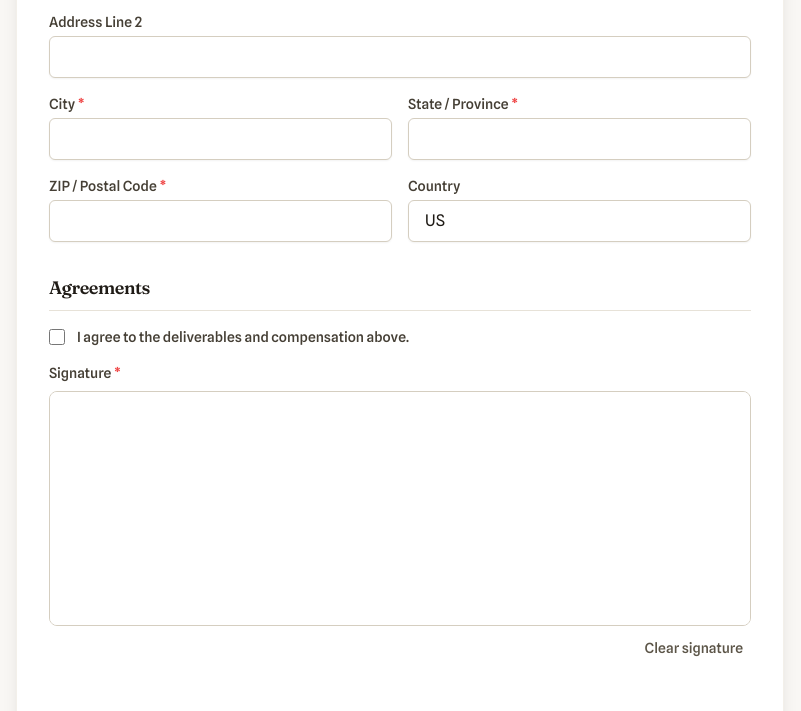
Test: AcceptOffer shipping address › blocks accepting with an inline message under each empty required field
(page scrolled)
Click the checkbox labelled "I agree to the deliverables and compensation above." at {"x": 57, "y": 337}, box [49,329,65,345]
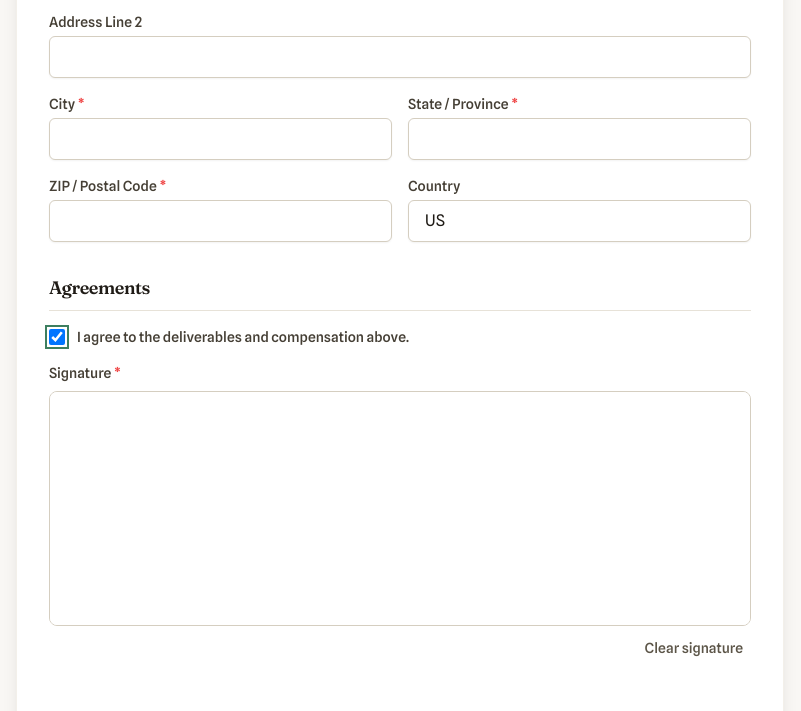
Press the mouse on the picture named "Signature pad" at {"x": 400, "y": 509}, box [50,392,750,625]
(page scrolled)
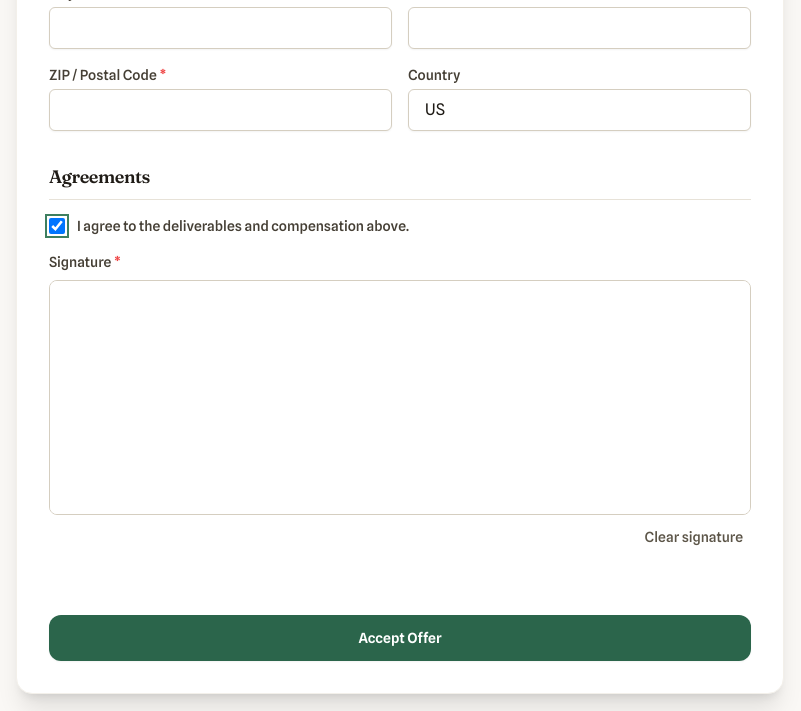
expect the text "Address line 1 is required" is not shown: met
expect the button "Accept Offer" is enabled: met
Click the button "Accept Offer" at {"x": 400, "y": 638}, box [49,615,751,661]
(page scrolled)
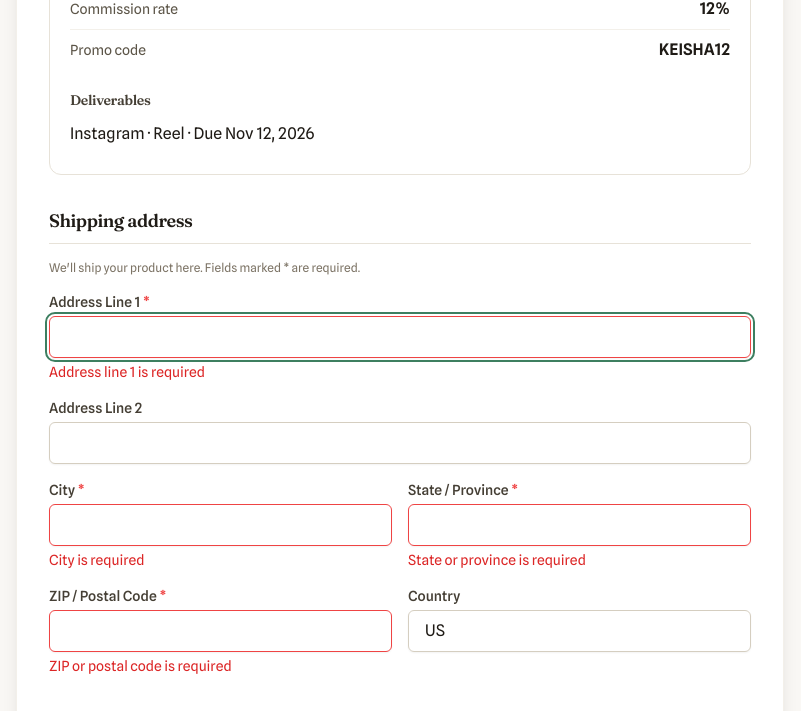
expect the text "Address line 1 is required" is shown: met, box [49,364,205,380]
expect the text "City is required" is shown: met, box [49,552,144,568]
expect the text "State or province is required" is shown: met, box [408,552,586,568]
